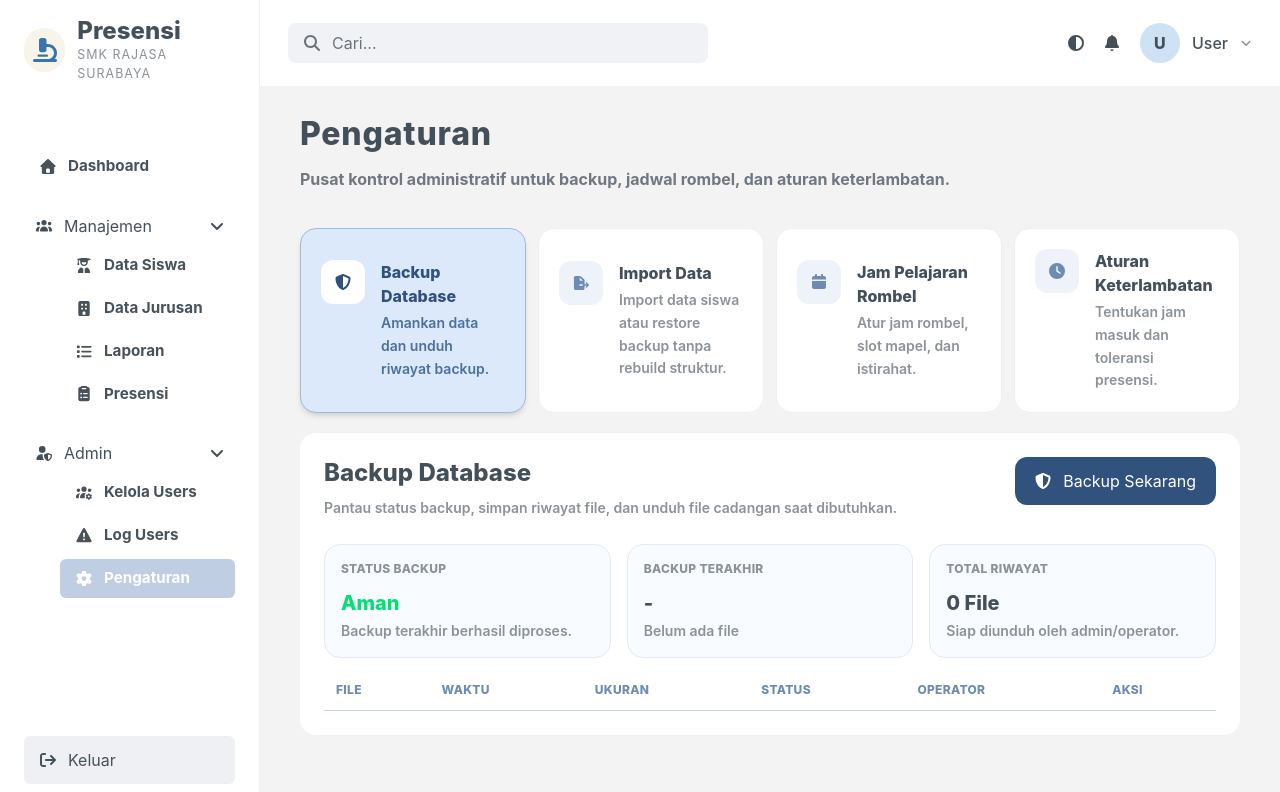
Scenario: pengaturan management page › renders import data panel from pengaturan tabs
Click the button "Import Data": (651, 320) [538, 228, 764, 413]
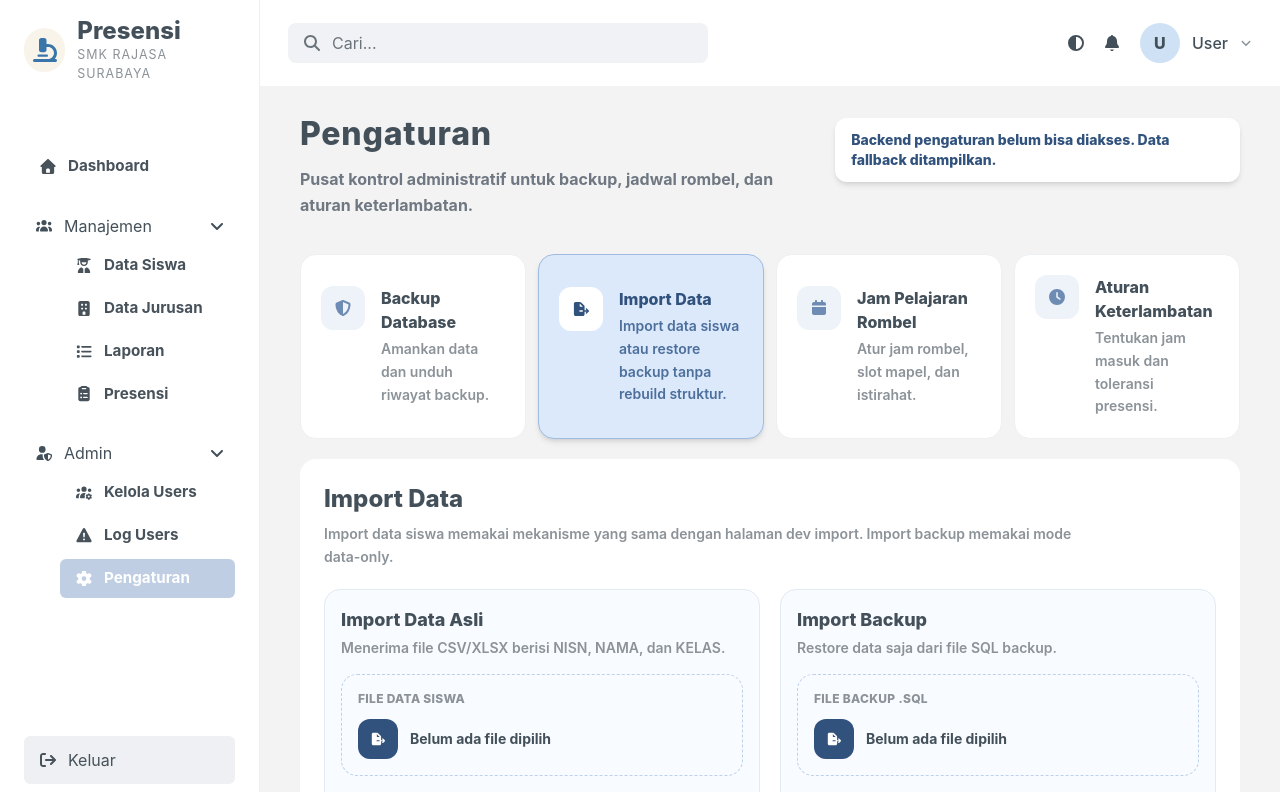
Expected: the heading "Import Data" is shown, [324, 484, 463, 513]
Expected: the heading "Import Data Asli" is shown, [341, 608, 483, 630]
Expected: the heading "Import Backup" is shown, [797, 608, 927, 630]
